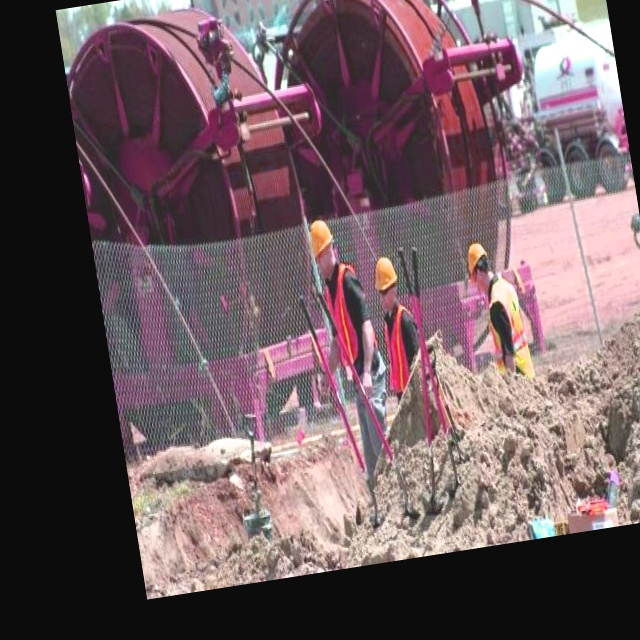Con_Casco: (463, 236, 495, 295), (308, 217, 339, 273), (371, 254, 401, 309)
Con_Chaleco: (318, 264, 381, 385), (481, 285, 534, 379), (379, 306, 427, 393)
